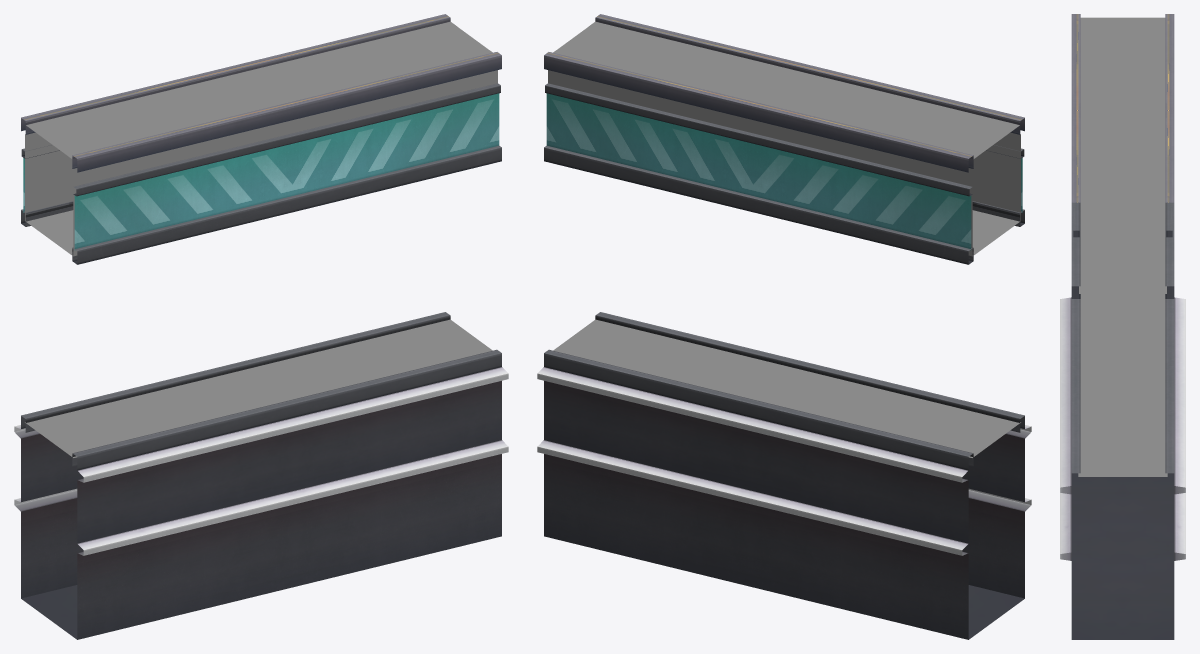
File: mesh_1002_yjy_sd006_1.FBX
3 views of the same model, side by side, from view 1: azimuth 30°, elevation 25°; view 2: azimuth 150°, elevation 25°; view 3: azimuth 270°, elevation 25° (orthographic). The views are drawn at different scales.
Parts seen in each view (by area): view 1: mesh_1002_yjy_sd006_1a, mesh_1002_yjy_sd006_1, mesh_1002_yjy_sd006_1c, mesh_1002_yjy_sd006_1b; view 2: mesh_1002_yjy_sd006_1a, mesh_1002_yjy_sd006_1, mesh_1002_yjy_sd006_1c, mesh_1002_yjy_sd006_1b; view 3: mesh_1002_yjy_sd006_1a, mesh_1002_yjy_sd006_1, mesh_1002_yjy_sd006_1c, mesh_1002_yjy_sd006_1b.
Part boxes in pixels (x1,y1,x2,y2): mesh_1002_yjy_sd006_1a: [14, 14, 508, 639]; mesh_1002_yjy_sd006_1: [25, 26, 497, 256]; mesh_1002_yjy_sd006_1c: [25, 319, 492, 457]; mesh_1002_yjy_sd006_1b: [26, 21, 492, 158]; mesh_1002_yjy_sd006_1a: [537, 14, 1031, 639]; mesh_1002_yjy_sd006_1: [548, 26, 1020, 256]; mesh_1002_yjy_sd006_1c: [553, 319, 1020, 457]; mesh_1002_yjy_sd006_1b: [553, 21, 1019, 158]; mesh_1002_yjy_sd006_1a: [1060, 14, 1185, 639]; mesh_1002_yjy_sd006_1: [1079, 17, 1166, 293]; mesh_1002_yjy_sd006_1c: [1078, 294, 1167, 476]; mesh_1002_yjy_sd006_1b: [1080, 17, 1165, 206].
Size of the model in its own units: 2077 by 2247 by 586.
Materials: 4 (1 with a texture image).
